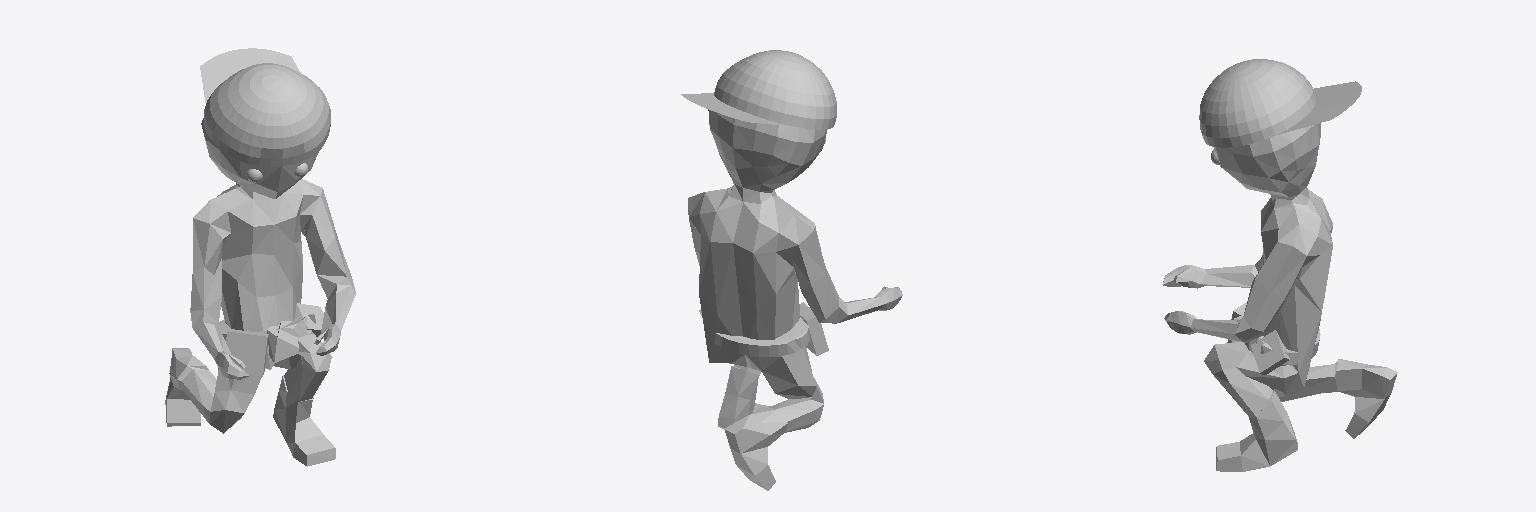
The model's file is Main_Character_TireRepair_15.obj.
The picture shows the model from 3 angles: view 1: azimuth 30°, elevation 25°; view 2: azimuth 150°, elevation 25°; view 3: azimuth 270°, elevation 25°; orthographic projection.
Visible parts, largest first — view 1: Main_Character_Test.003_Main_Character_Test.004; view 2: Main_Character_Test.003_Main_Character_Test.004; view 3: Main_Character_Test.003_Main_Character_Test.004.
Boxes of the visible parts, box(x1,y1,x2,y2) form: Main_Character_Test.003_Main_Character_Test.004: box(165, 48, 355, 466); Main_Character_Test.003_Main_Character_Test.004: box(681, 50, 902, 490); Main_Character_Test.003_Main_Character_Test.004: box(1162, 59, 1397, 471).
Size of the model in its own units: 1.47 by 3.29 by 1.82.